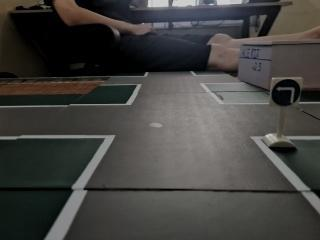left: (268, 76, 305, 109)
